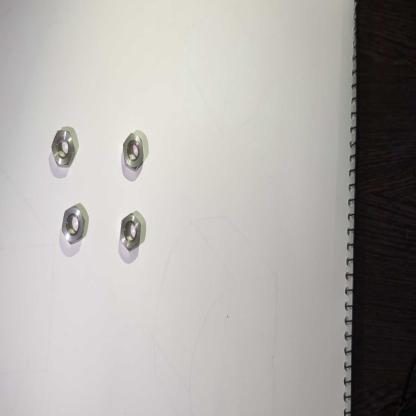NUTS: (51, 127, 76, 174), (61, 200, 86, 247), (120, 130, 146, 173), (119, 209, 143, 252)
